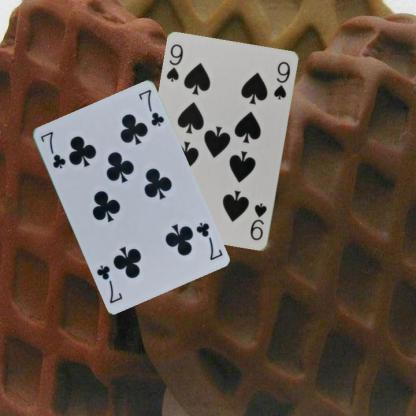7c: (193, 219, 224, 262), (38, 128, 67, 170)
9s: (164, 42, 185, 84), (248, 201, 268, 242)
